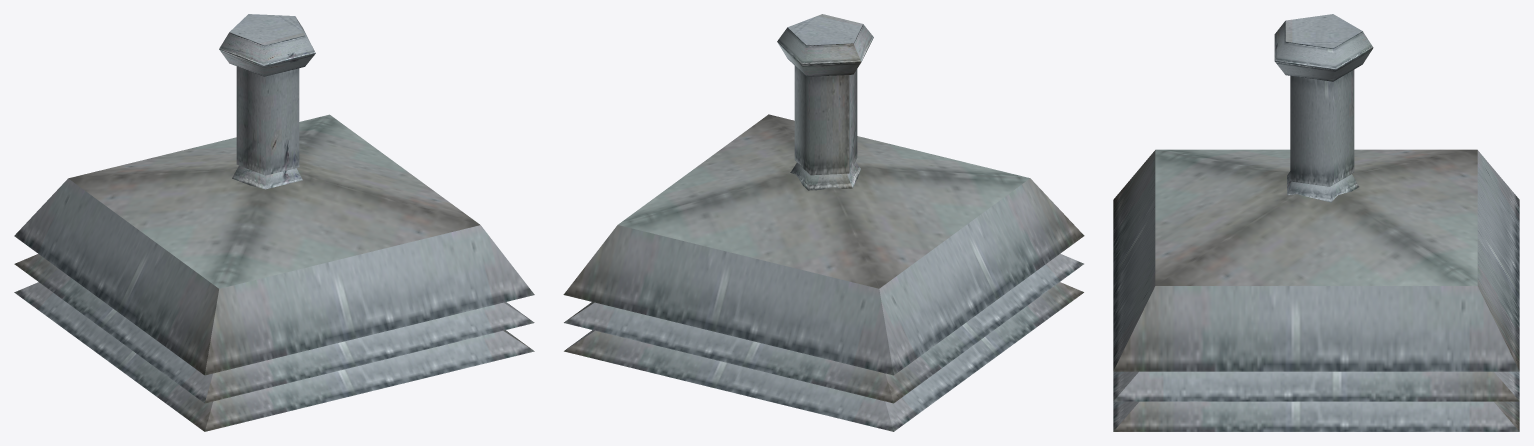
Rendered from Spike.fbx.
3 views of the same model, side by side, from view 1: azimuth 30°, elevation 25°; view 2: azimuth 150°, elevation 25°; view 3: azimuth 270°, elevation 25° (orthographic). The views are drawn at different scales.
Parts seen in each view (by area): view 1: Spike; view 2: Spike; view 3: Spike.
Boxes of the visible parts, x1,y1,x2,y2 form: Spike: (14,14,534,431); Spike: (563,14,1084,431); Spike: (1113,14,1519,431).
Size of the model in its own units: 71.57 by 60.71 by 71.57.
